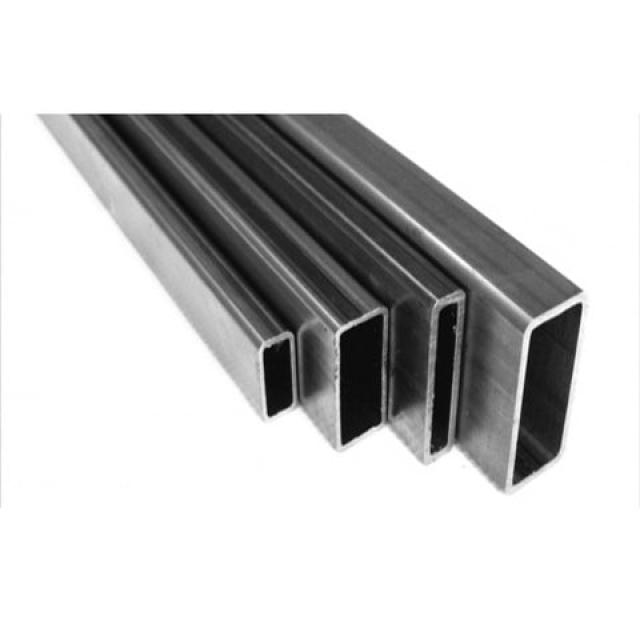Dry Waste: (15, 68, 622, 551)
